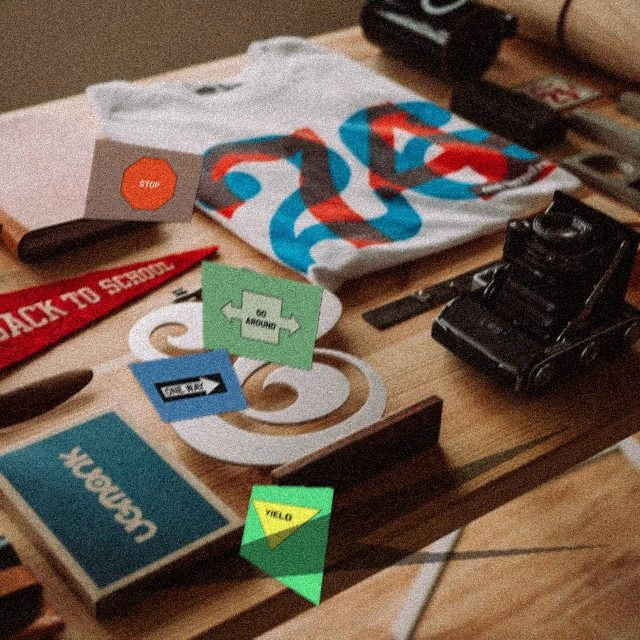GO_AROUND: (214, 285, 304, 350)
ONE_WAY_ right: (153, 366, 228, 410)
STOP: (117, 154, 181, 212)
YIELD: (241, 495, 322, 572)
